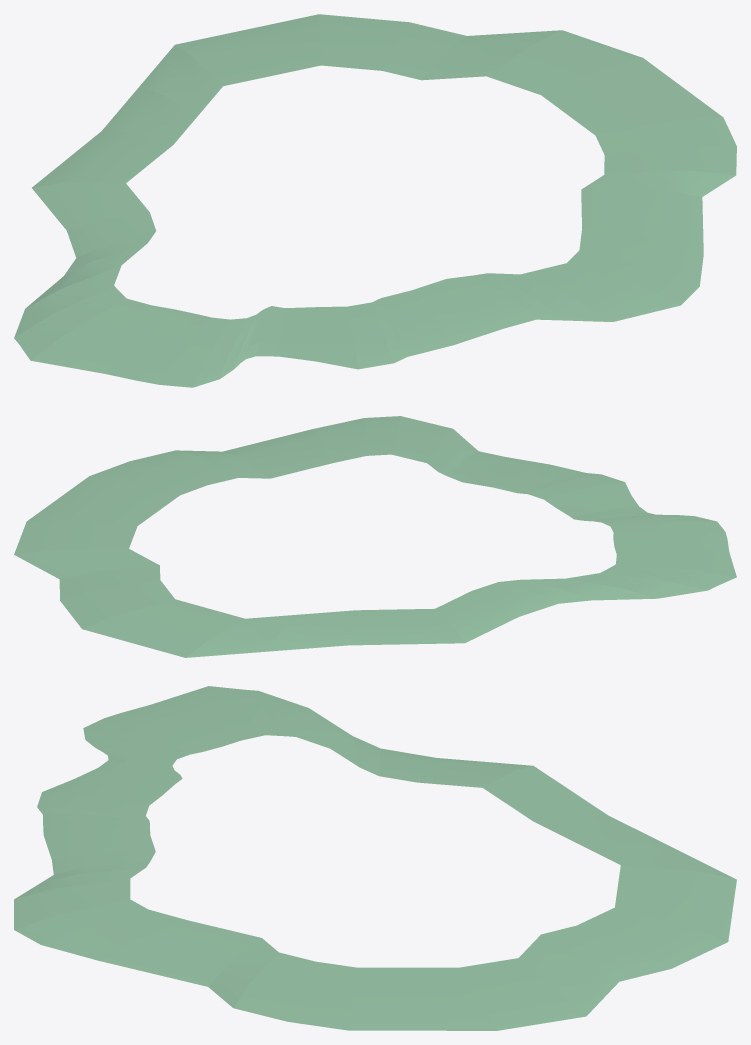
File: Rock_02_Collider_B.fbx
3 renders of one model, top to bottom at view 1: azimuth 30°, elevation 25°; view 2: azimuth 150°, elevation 25°; view 3: azimuth 270°, elevation 25°, orthographic. The views are drawn at different scales.
Parts seen in each view (by area): view 1: Rock_02_Collider_B; view 2: Rock_02_Collider_B; view 3: Rock_02_Collider_B.
Part boxes in pixels (x1,y1,x2,y2): Rock_02_Collider_B: (14, 14, 736, 387); Rock_02_Collider_B: (14, 416, 736, 657); Rock_02_Collider_B: (14, 686, 736, 1030).
Size of the model in its own units: 3388 by 41.38 by 3002.
